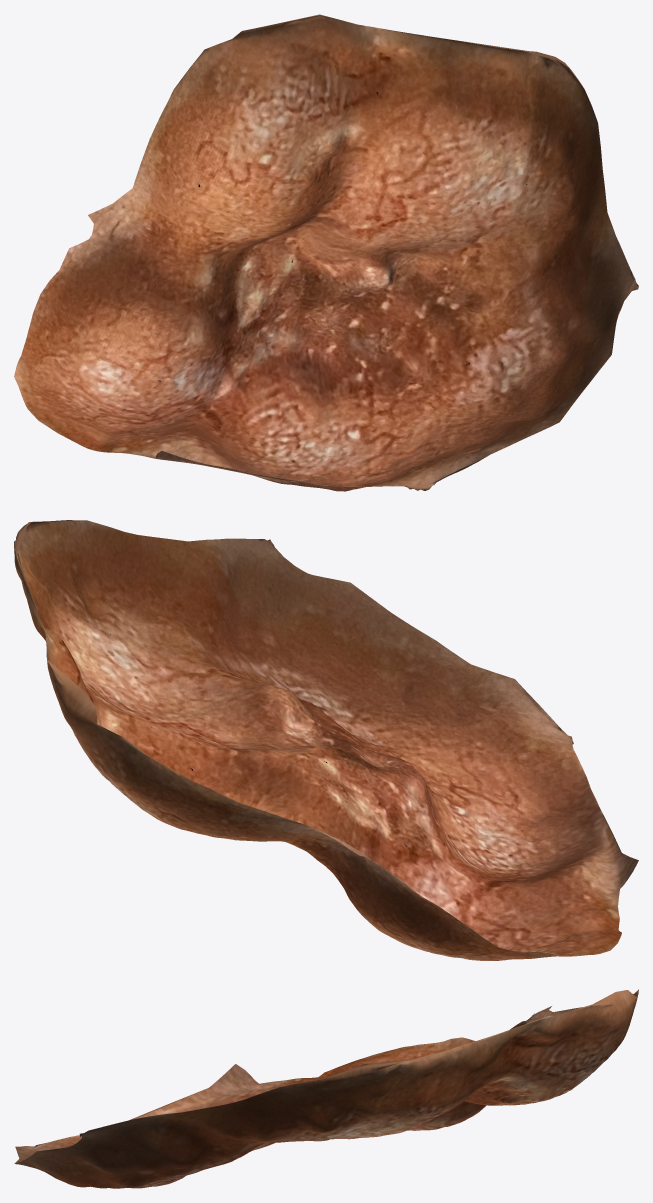
File: baked_mesh.obj
3 views of the same model, one above another, from view 1: azimuth 30°, elevation 25°; view 2: azimuth 150°, elevation 25°; view 3: azimuth 270°, elevation 25° (orthographic). The views are drawn at different scales.
Visible parts, largest first — view 1: g0; view 2: g0; view 3: g0.
Part boxes in pixels (left/top/right/bottom): g0: left=14, top=14, right=638, bottom=491; g0: left=14, top=520, right=638, bottom=960; g0: left=14, top=989, right=638, bottom=1188.
Size of the model in its own units: 0.3015 by 0.1462 by 0.3138.
1 material, 1 textured.
